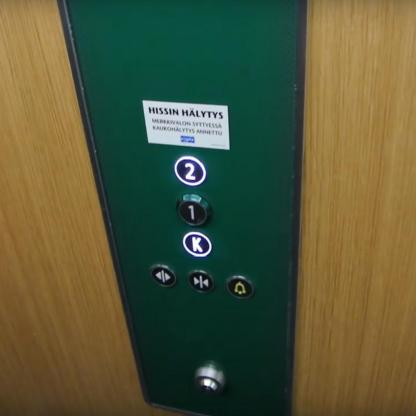1: (174, 193, 211, 227)
2: (173, 155, 206, 187)
K: (181, 230, 212, 258)
alarm: (225, 274, 254, 298)
close: (186, 269, 214, 294)
keyhole: (192, 361, 226, 395)
open: (148, 263, 176, 287)
